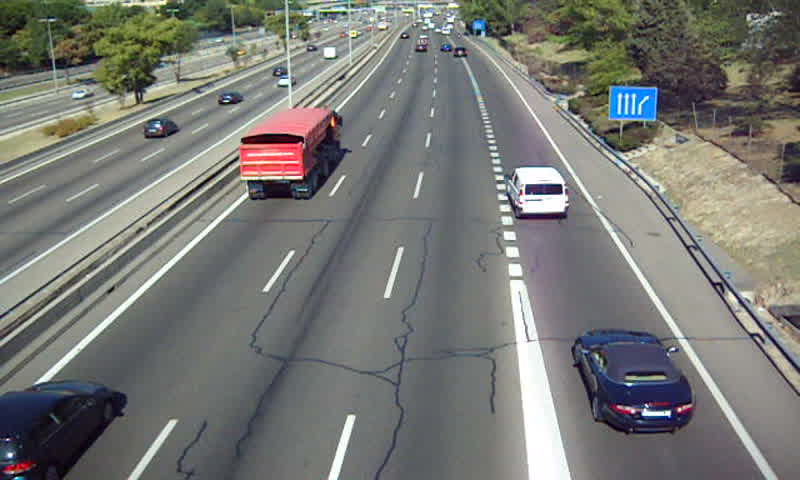car: (572, 332, 694, 431), (1, 380, 111, 480)
truck: (240, 107, 342, 198)
van: (507, 166, 570, 218)
